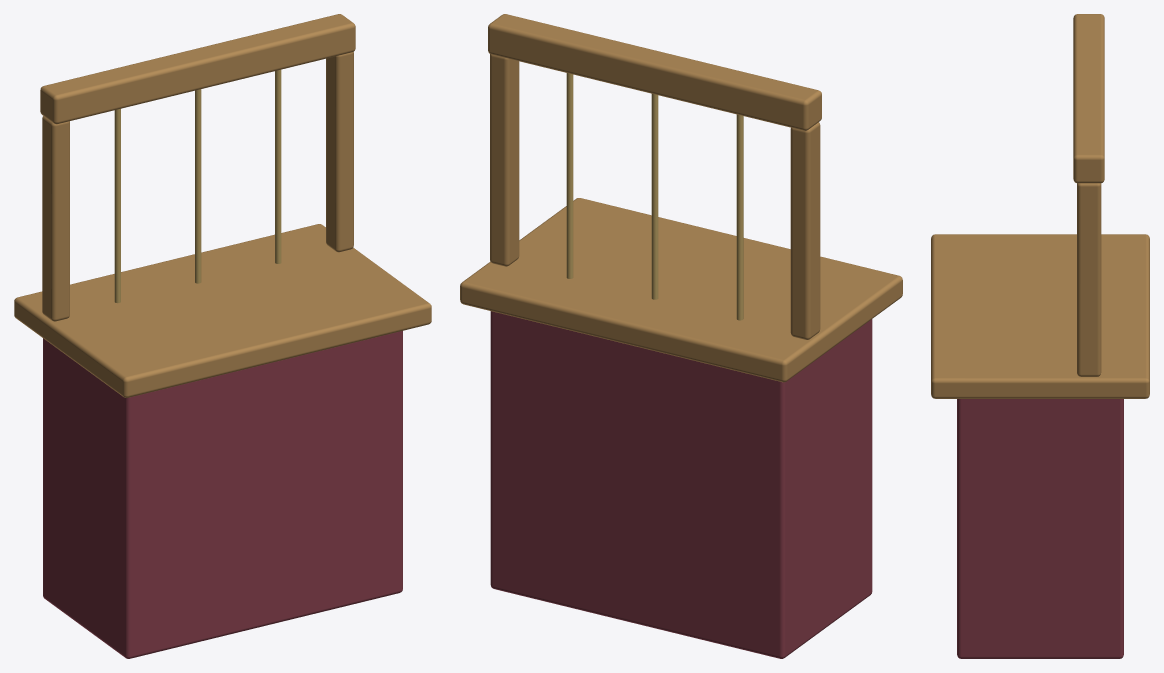
The model's file is abandoned-puppet-theatre-and-prop-vault-ticket-hatch-d5cc5af0__31075.glb.
3 views of the same model, side by side, from view 1: azimuth 30°, elevation 25°; view 2: azimuth 150°, elevation 25°; view 3: azimuth 270°, elevation 25° (orthographic). The views are drawn at different scales.
Visible parts, largest first — view 1: ticket-hatch; view 2: ticket-hatch; view 3: ticket-hatch.
Part boxes in pixels (x1,y1,x2,y2): ticket-hatch: (14,14,431,658); ticket-hatch: (460,14,902,658); ticket-hatch: (931,14,1149,658).
Size of the model in its own units: 1 by 1.62 by 0.63.
